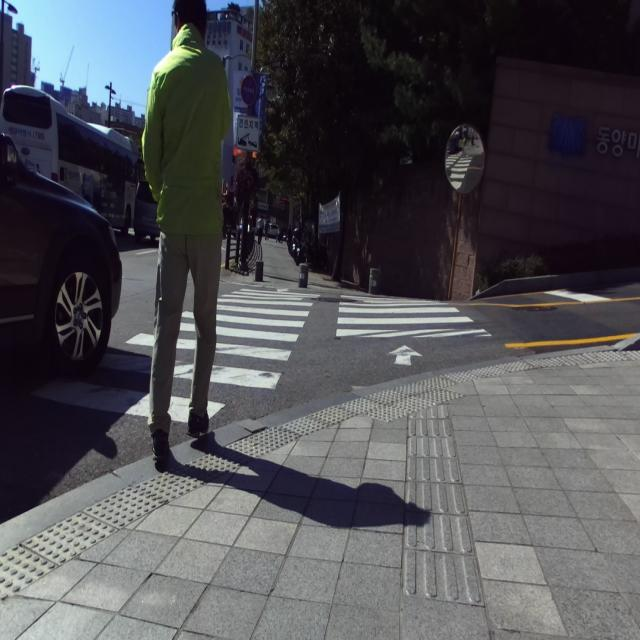횡단보도: (24, 287, 491, 424)
